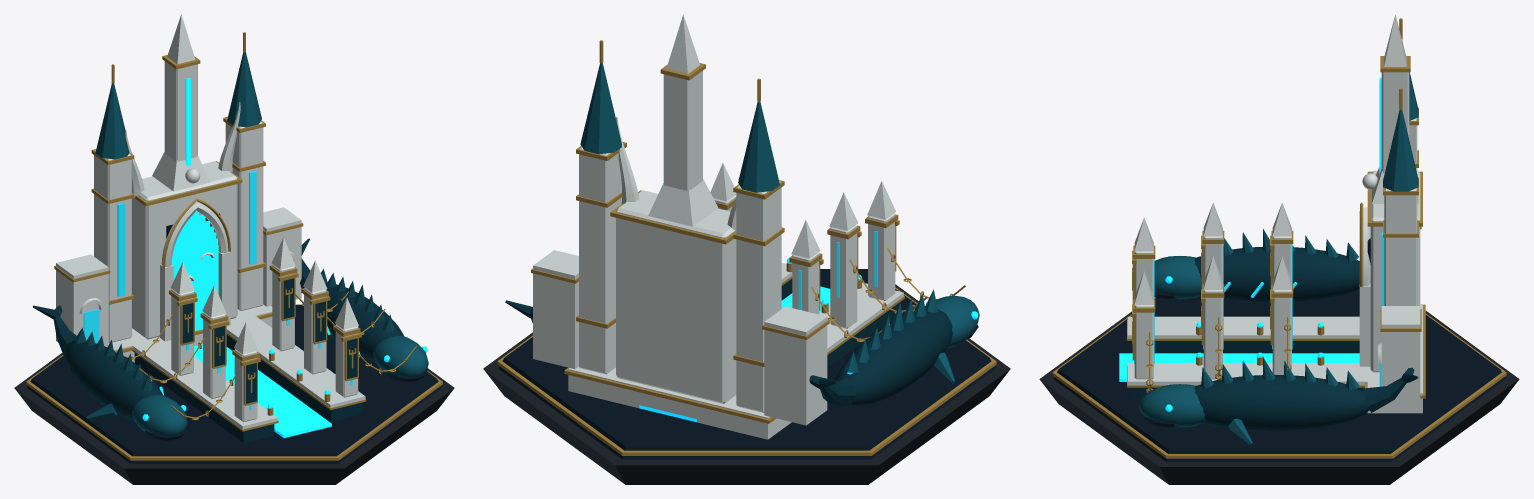
The model's file is poseidon_tutor_structure_4.glb.
The picture shows the model from 3 angles, left to right: view 1: azimuth 30°, elevation 25°; view 2: azimuth 150°, elevation 25°; view 3: azimuth 270°, elevation 25°; orthographic projection. The views are drawn at different scales.
Parts seen in each view (by area): view 1: poseidon_tutor_structure_4; view 2: poseidon_tutor_structure_4; view 3: poseidon_tutor_structure_4.
Boxes of the visible parts, x1,y1,x2,y2 form: poseidon_tutor_structure_4: (14,14,454,484); poseidon_tutor_structure_4: (483,14,1010,484); poseidon_tutor_structure_4: (1039,14,1519,484).
Bounding box in the file's own units: 1.51 × 1.56 × 1.74.
Materials: 1 (1 with a texture image).
